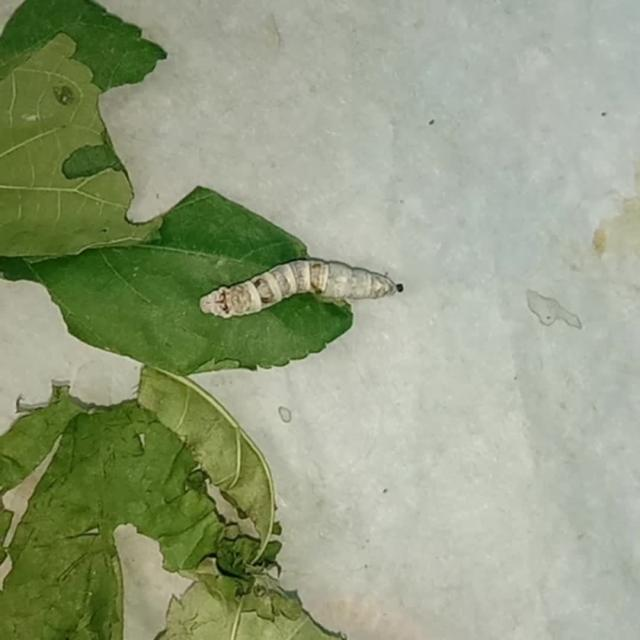Grasserie: (182, 238, 472, 350)
